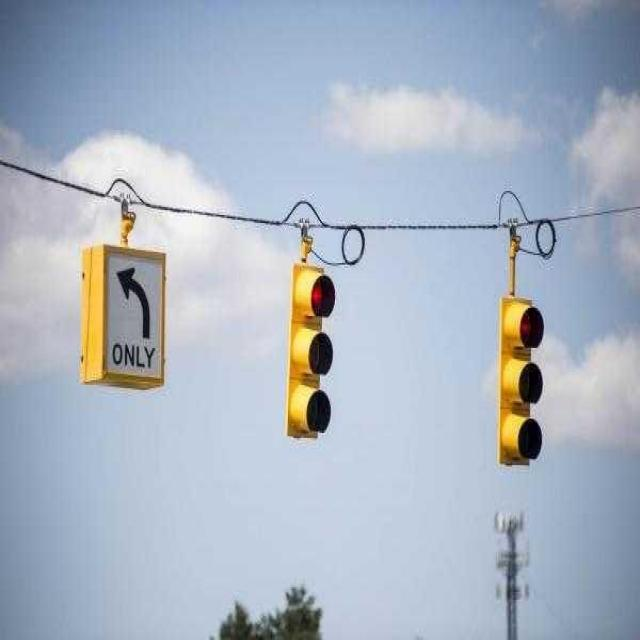Traffic Light -Red-: (287, 260, 340, 449), (498, 295, 550, 472)
